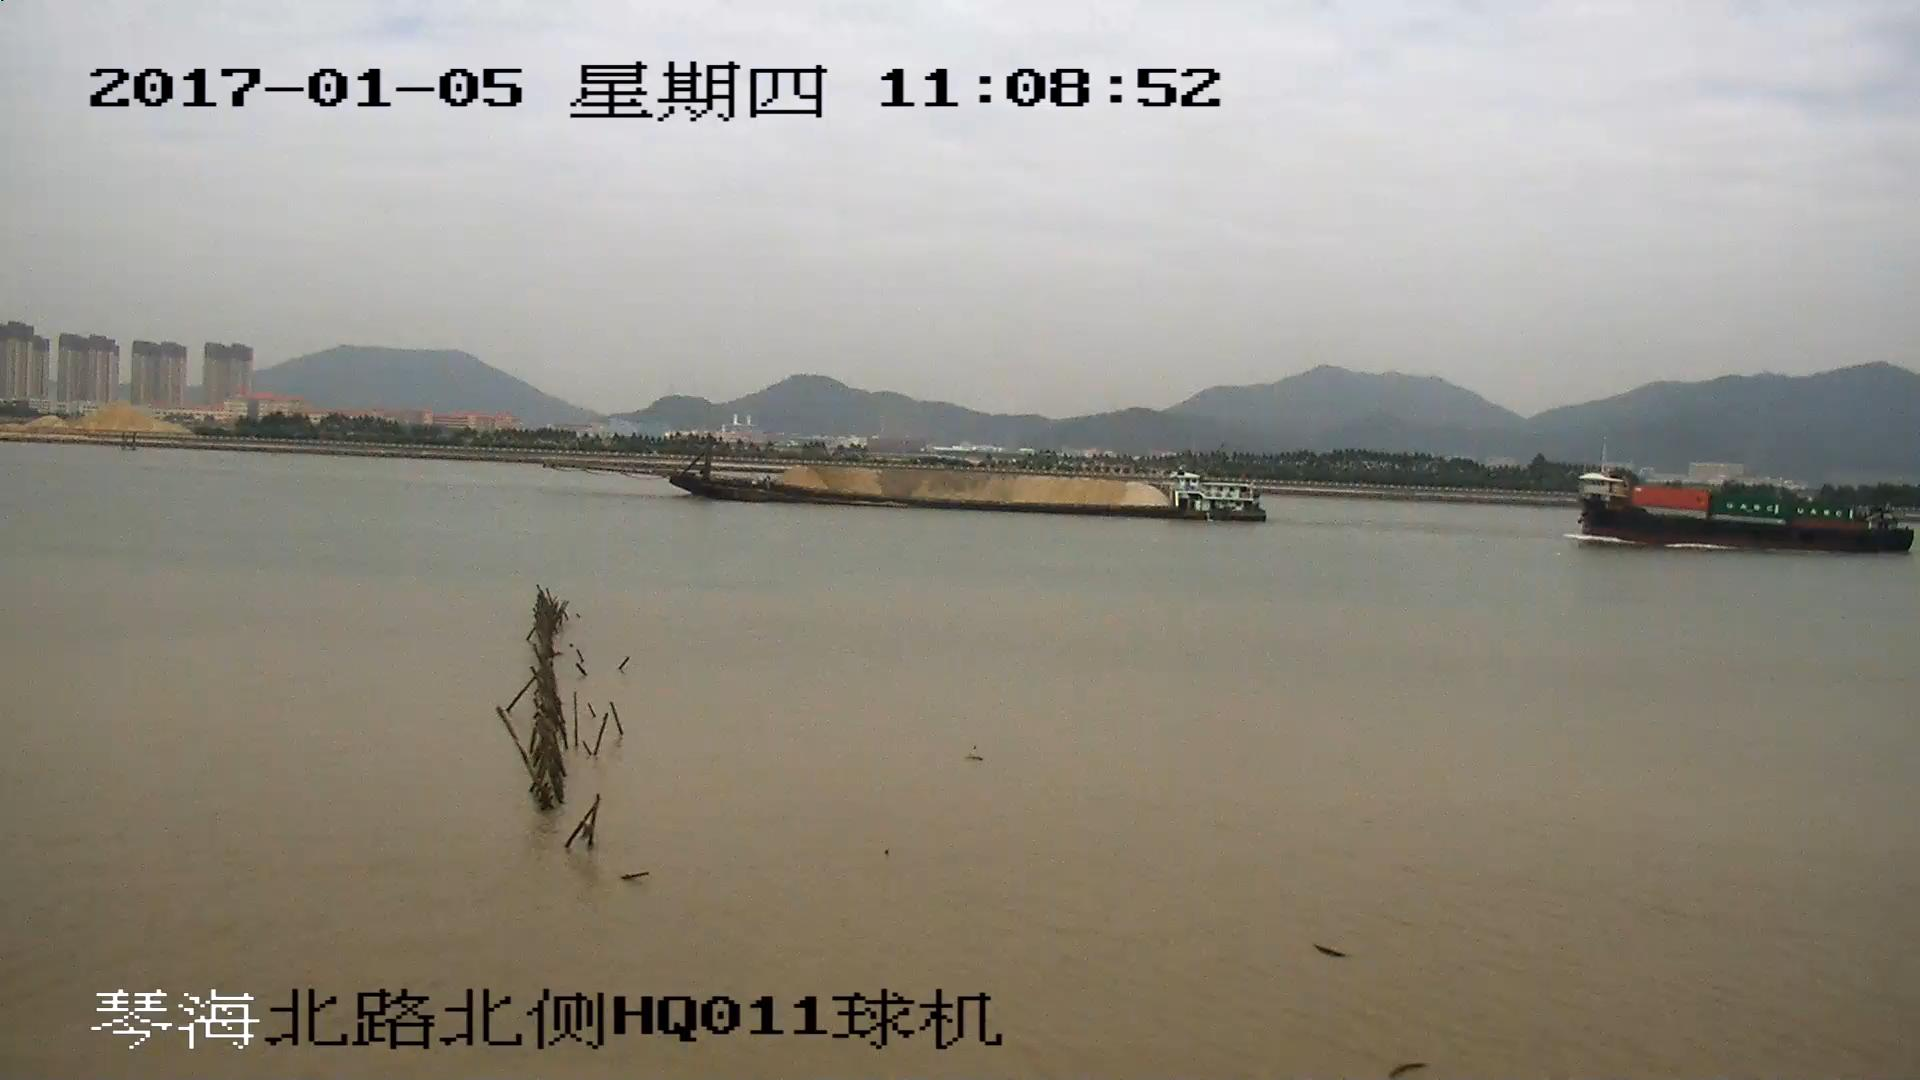container ship: (1580, 469, 1914, 552)
ore carrier: (562, 439, 1264, 519)
